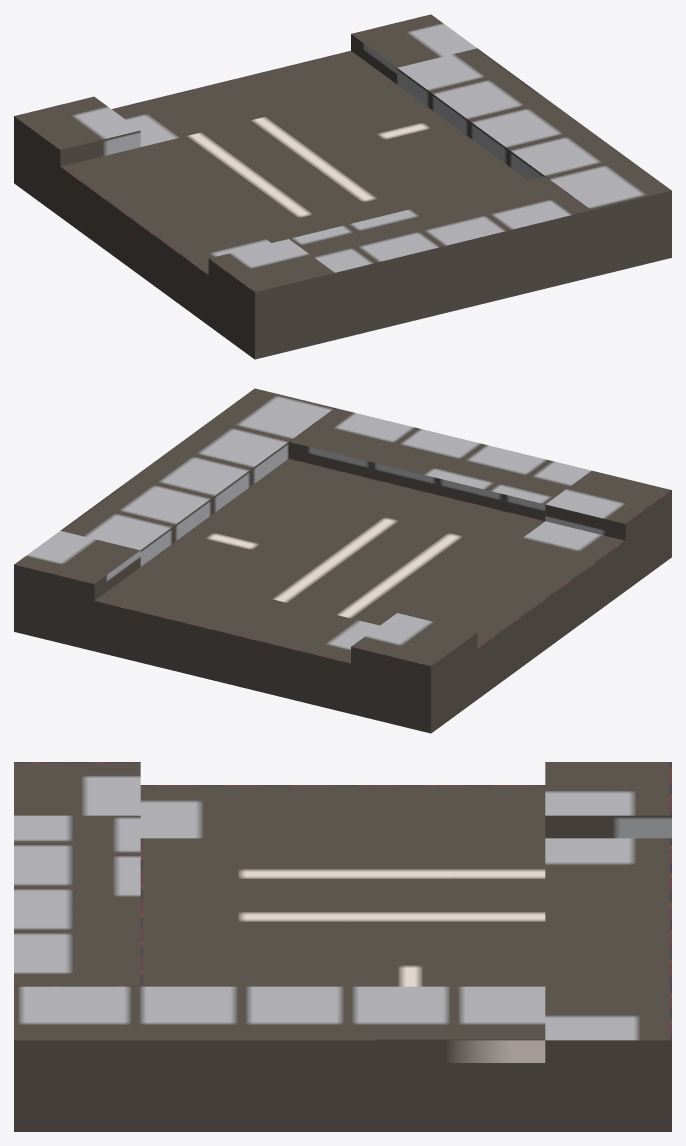
Rendered from tile_corner.obj.
3 views of the same model, one above another, from view 1: azimuth 30°, elevation 25°; view 2: azimuth 150°, elevation 25°; view 3: azimuth 270°, elevation 25° (orthographic). The views are drawn at different scales.
Parts seen in each view (by area): view 1: tile_corner; view 2: tile_corner; view 3: tile_corner.
Boxes of the visible parts, x1,y1,x2,y2 form: tile_corner: (14,14,671,359); tile_corner: (14,388,671,733); tile_corner: (14,762,671,1131).
Size of the model in its own units: 6.5 by 1 by 6.5.
1 material, 1 textured.
